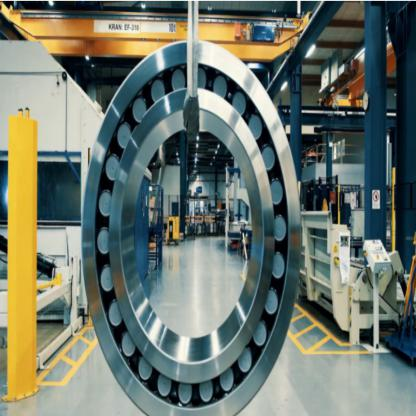FOD: (75, 35, 306, 415)
